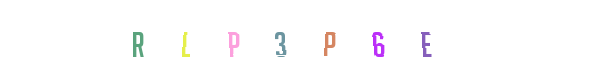3: (257, 0, 337, 80)
6: (338, 0, 418, 80)
E: (385, 0, 465, 80)
L: (159, 0, 239, 80)
P: (230, 0, 310, 80), (289, 0, 369, 80)
R: (144, 0, 224, 80)
